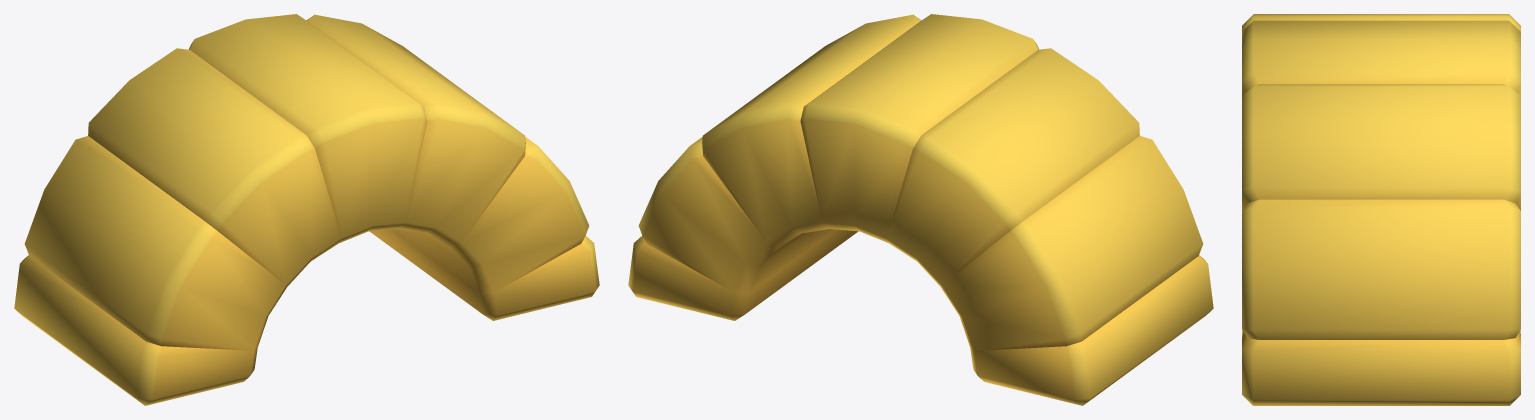
Rendered from tire_yellow.glb.
3 renders of one model, left to right at view 1: azimuth 30°, elevation 25°; view 2: azimuth 150°, elevation 25°; view 3: azimuth 270°, elevation 25°, orthographic. The views are drawn at different scales.
Visible parts, largest first — view 1: tire_yellow; view 2: tire_yellow; view 3: tire_yellow.
Part boxes in pixels (x1,y1,x2,y2): tire_yellow: [14, 14, 599, 405]; tire_yellow: [628, 14, 1213, 405]; tire_yellow: [1242, 14, 1520, 405].
Bounding box in the file's own units: 0.8 × 0.4 × 0.4.
1 material, 1 textured.
